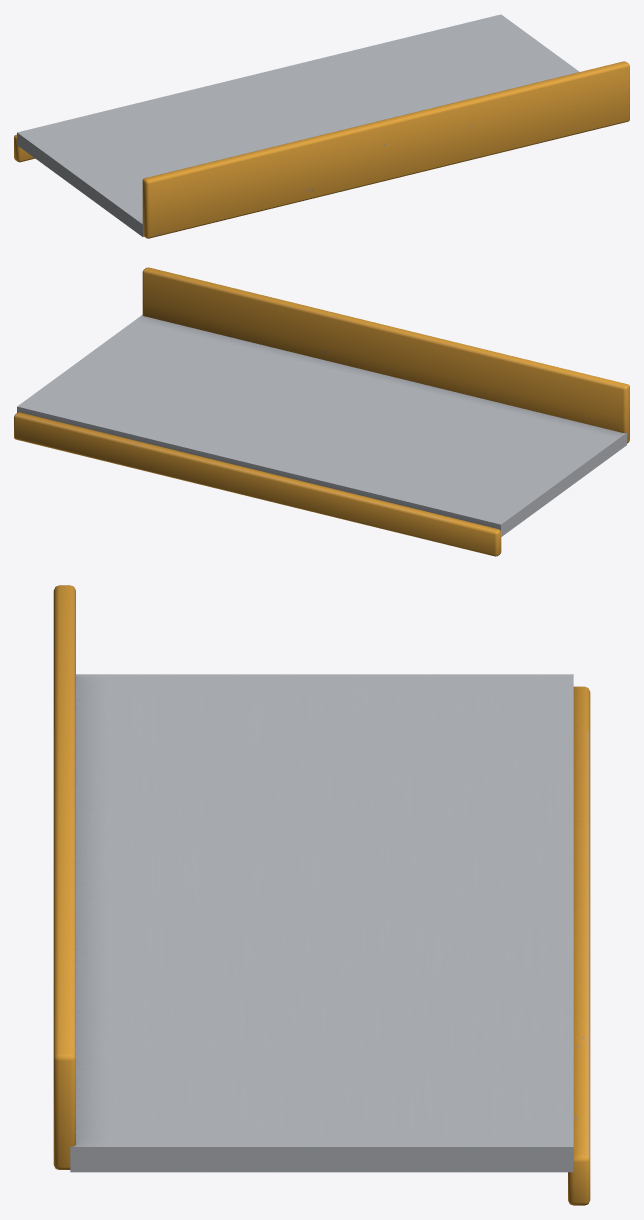
File: prop_chute.fbx
The picture shows the model from 3 angles, top to bottom: view 1: azimuth 30°, elevation 25°; view 2: azimuth 150°, elevation 25°; view 3: azimuth 270°, elevation 25°; orthographic projection. The views are drawn at different scales.
Parts seen in each view (by area): view 1: prop_chute; view 2: prop_chute; view 3: prop_chute.
Part boxes in pixels (bbox=[...]): prop_chute: bbox=[14, 14, 629, 238]; prop_chute: bbox=[14, 267, 629, 556]; prop_chute: bbox=[53, 585, 590, 1205].
Bounding box in the file's own units: 2 × 0.3 × 0.96.
